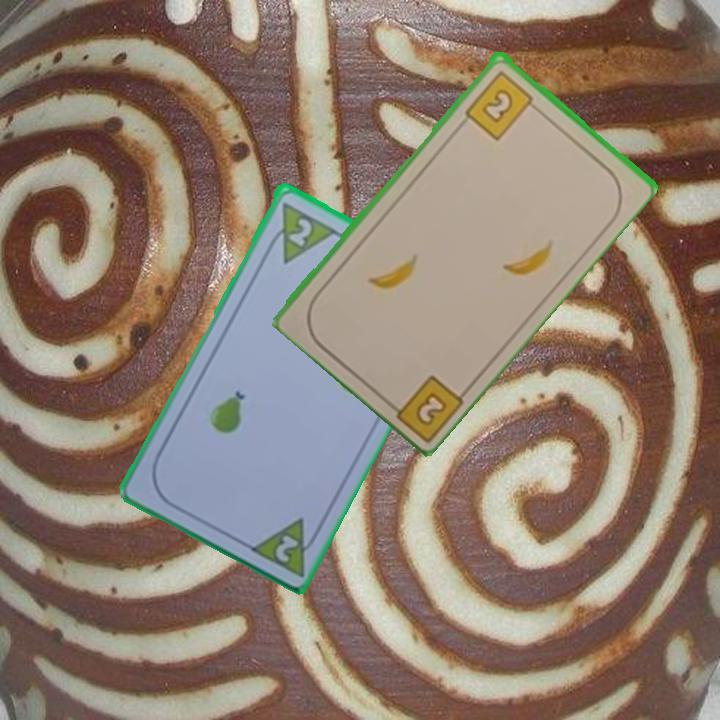2b: (461, 66, 542, 143), (381, 370, 467, 442)
2p: (244, 512, 325, 579), (261, 197, 337, 266)
